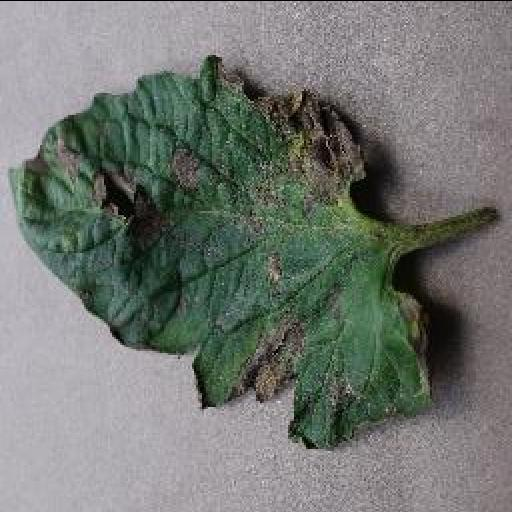disease_tomato: (6, 54, 432, 452)
